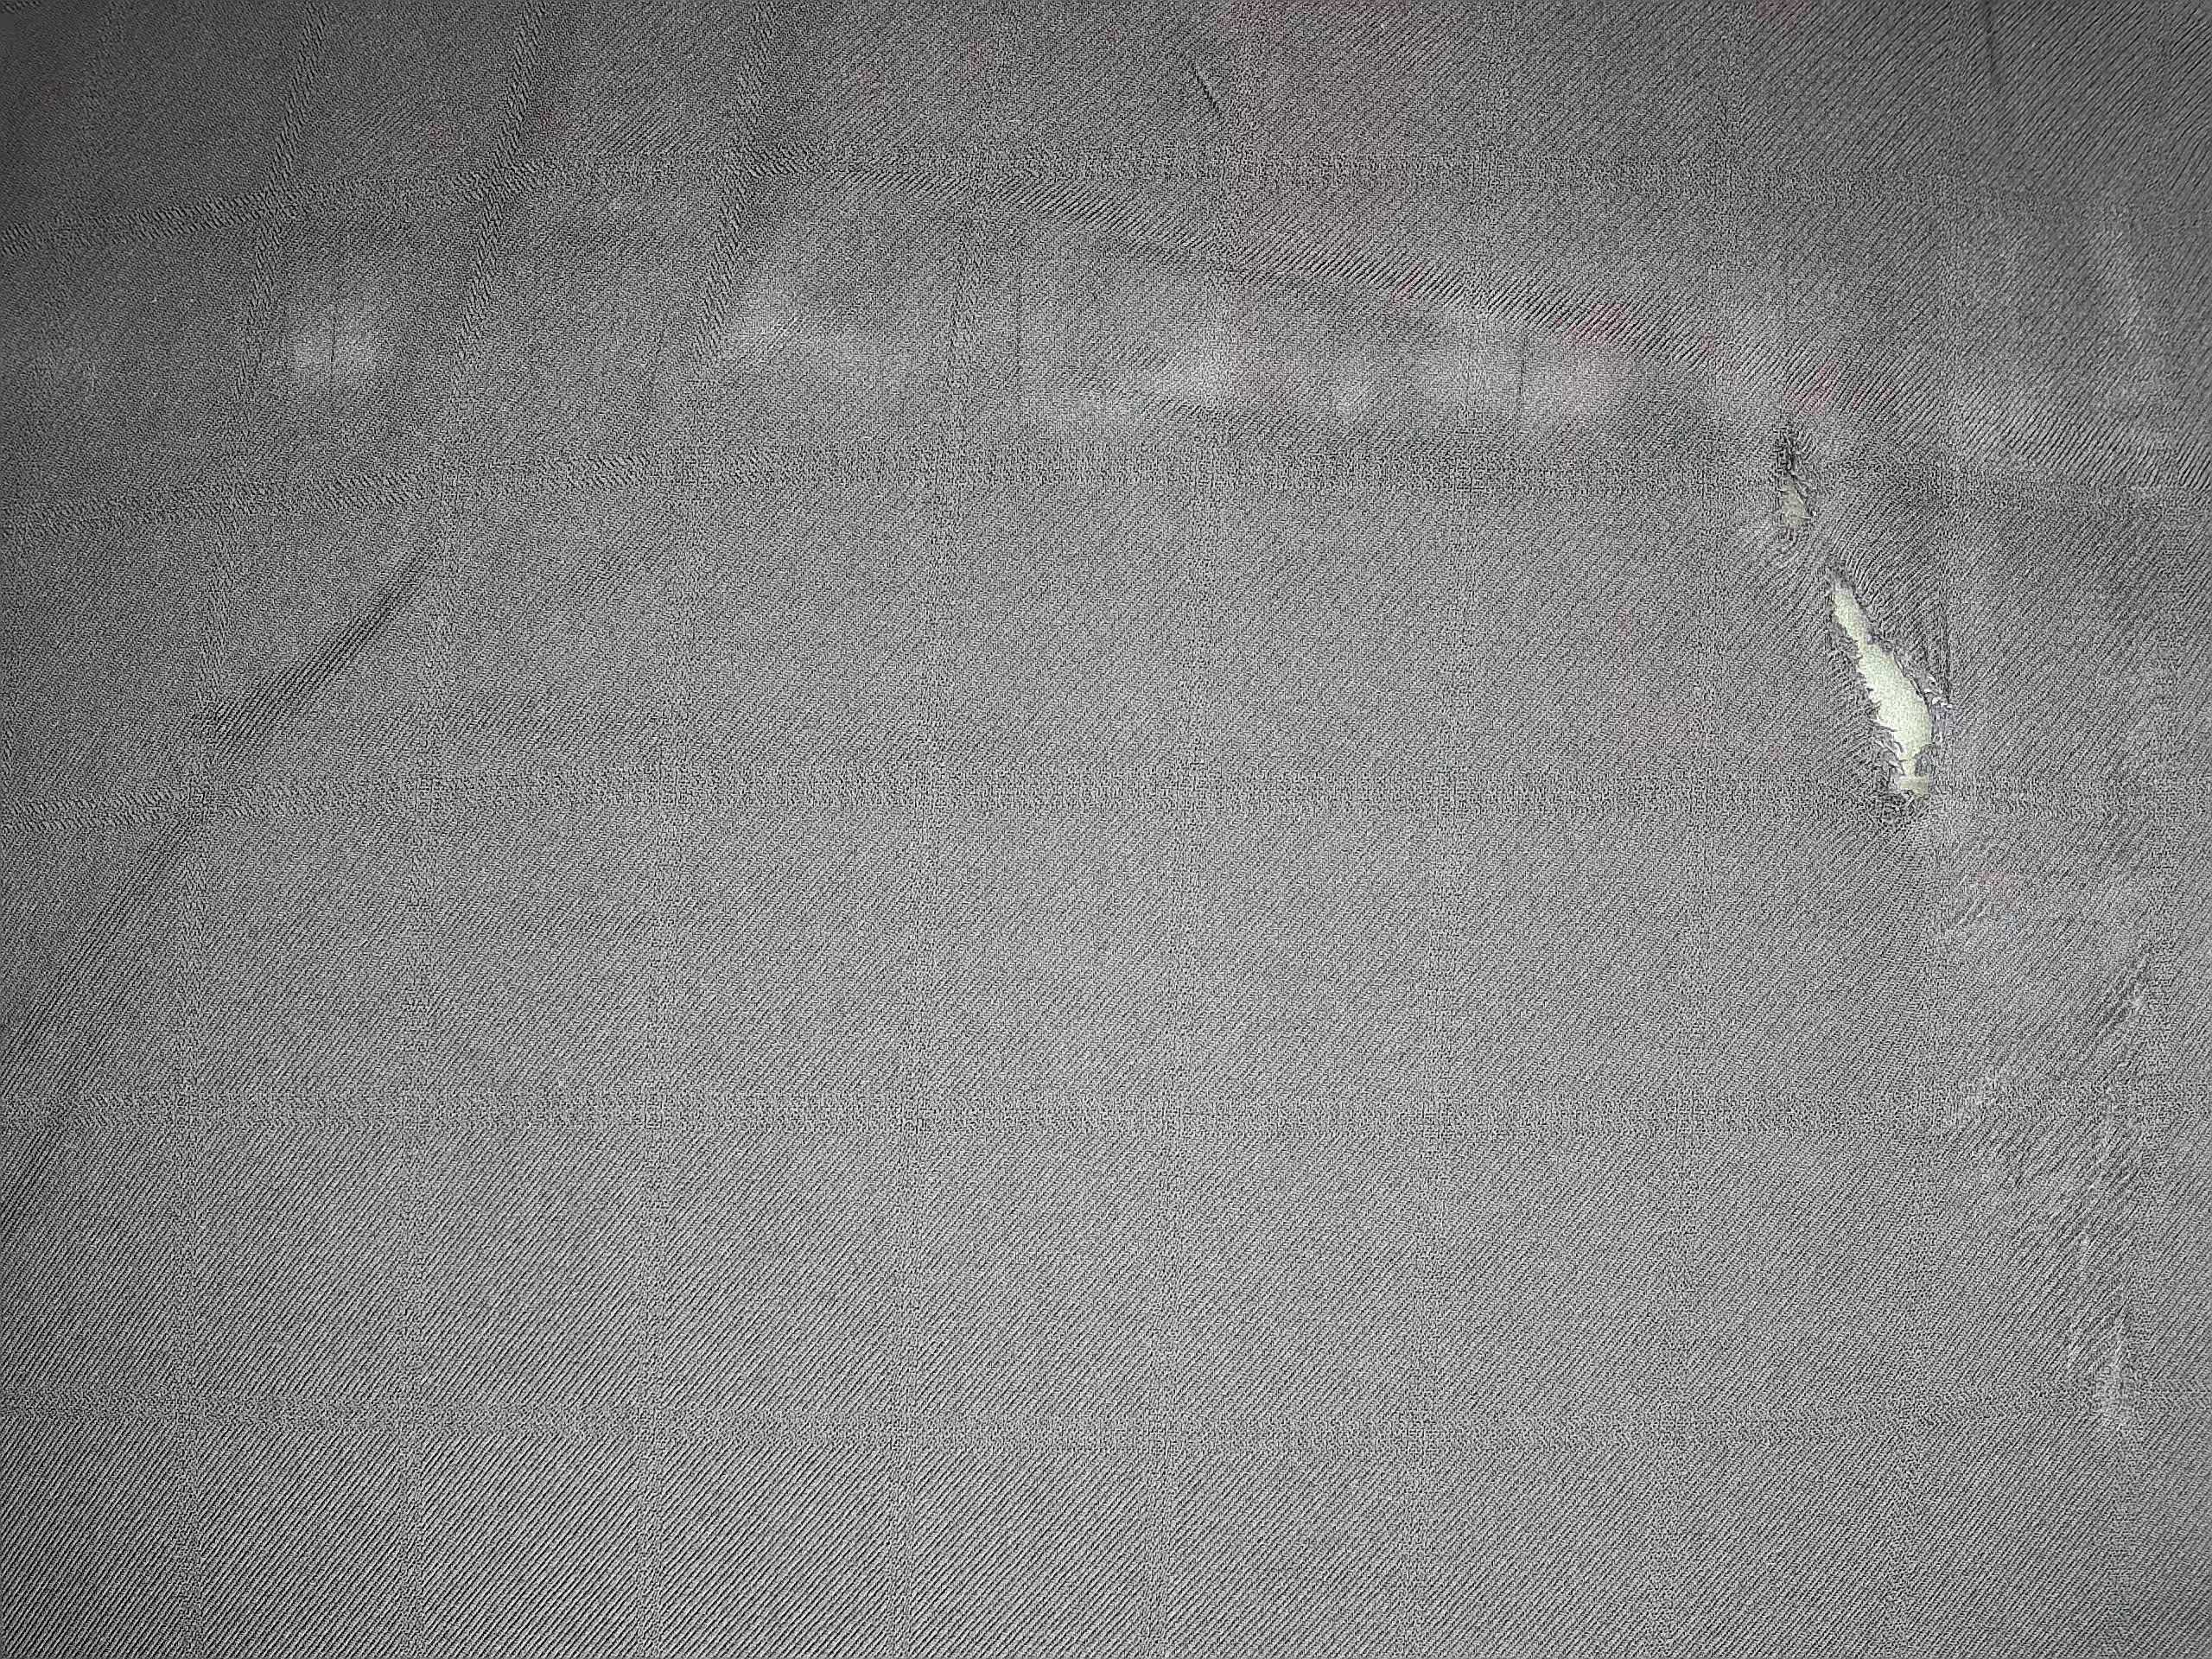puncture-hole: (1726, 397, 1993, 866)
